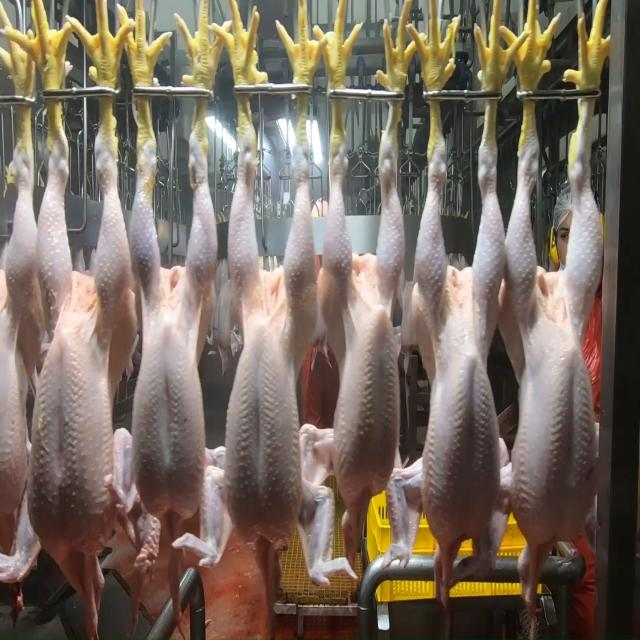chicken: (15, 127, 127, 582), (511, 136, 610, 550), (125, 129, 222, 532), (412, 142, 504, 551), (221, 141, 304, 545), (321, 147, 407, 506)
